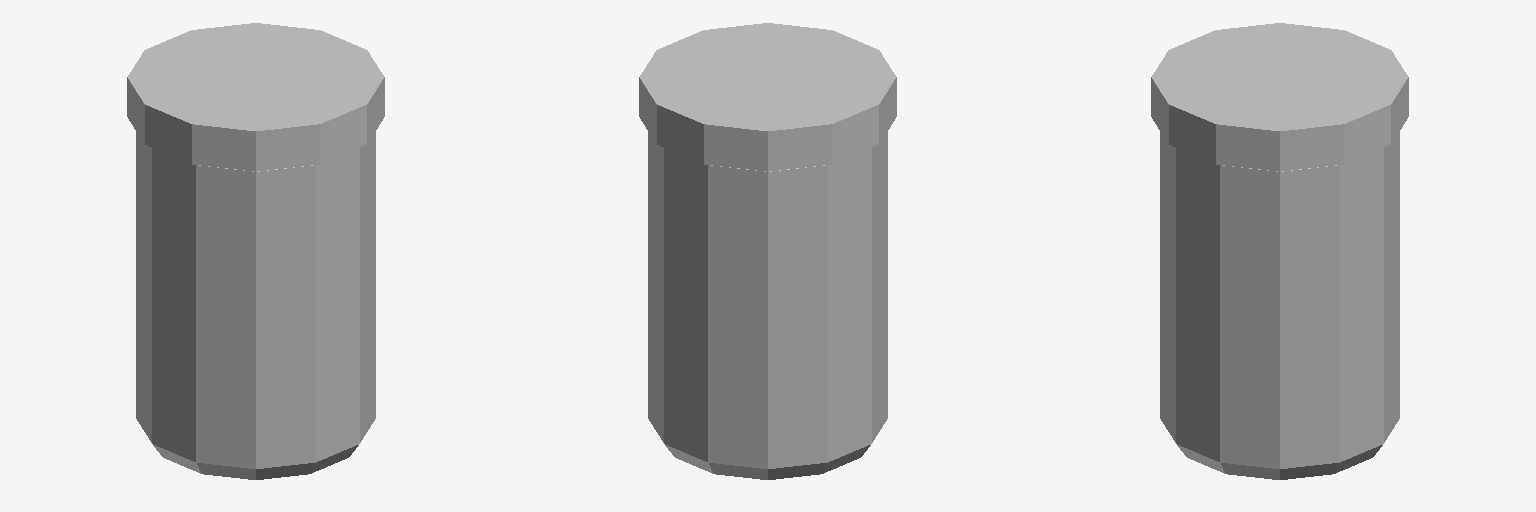
Rendered from jarrr.obj.
3 views of the same model, side by side, from view 1: azimuth 30°, elevation 25°; view 2: azimuth 150°, elevation 25°; view 3: azimuth 270°, elevation 25° (orthographic).
Size of the model in its own units: 0.29 by 0.445 by 0.29.